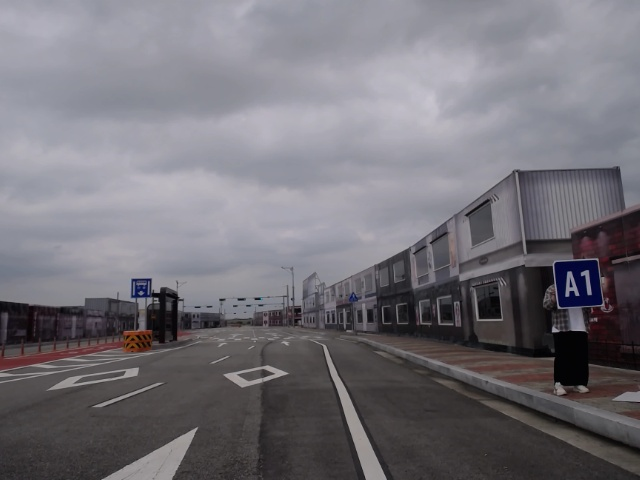delivery_a1: (552, 260, 603, 308)
